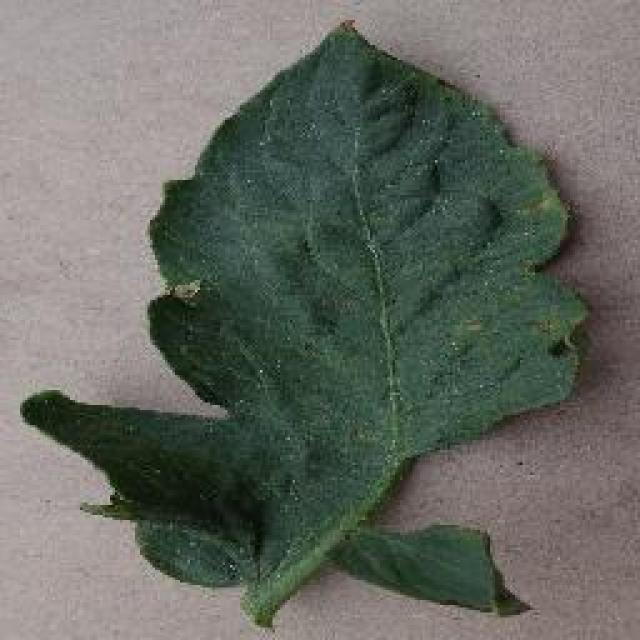Tomato___Bacterial_spot: (18, 21, 595, 636)
